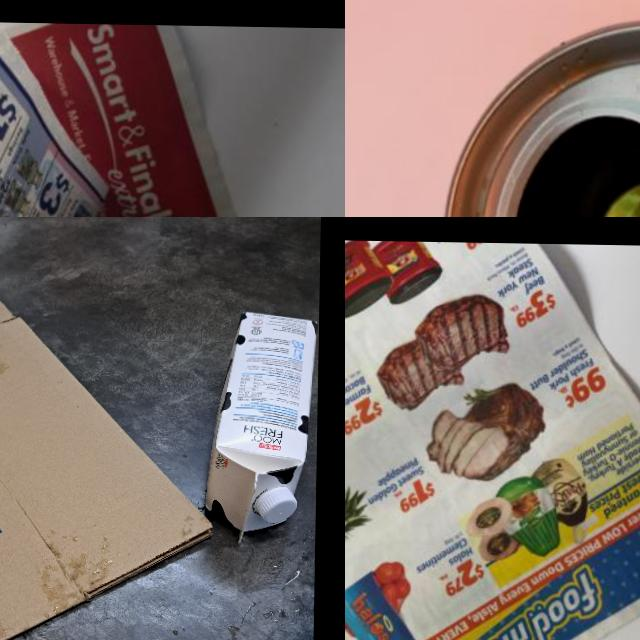caixinha: (206, 308, 316, 544)
lata: (432, 11, 640, 217)
papel: (345, 236, 640, 640), (0, 17, 337, 217)
papelão: (0, 228, 218, 640)
tampa plástica: (259, 488, 296, 524)
